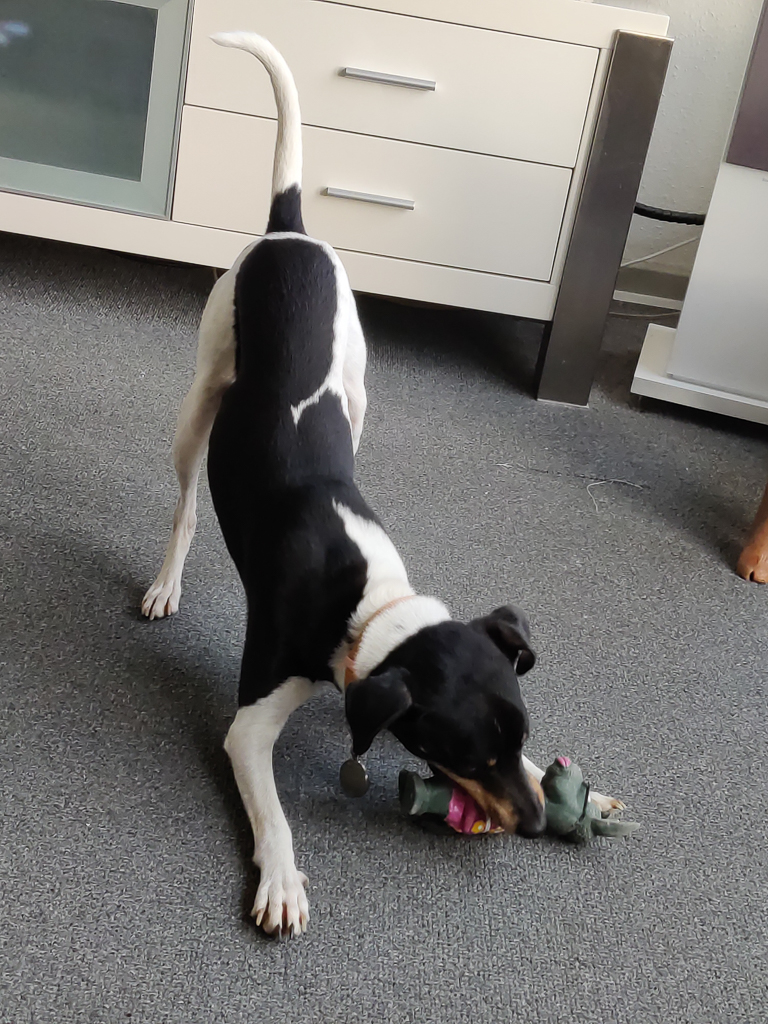Cattle: (707, 453, 768, 593)
Dog: (98, 11, 653, 957)
Humanoid: (382, 742, 648, 859)
